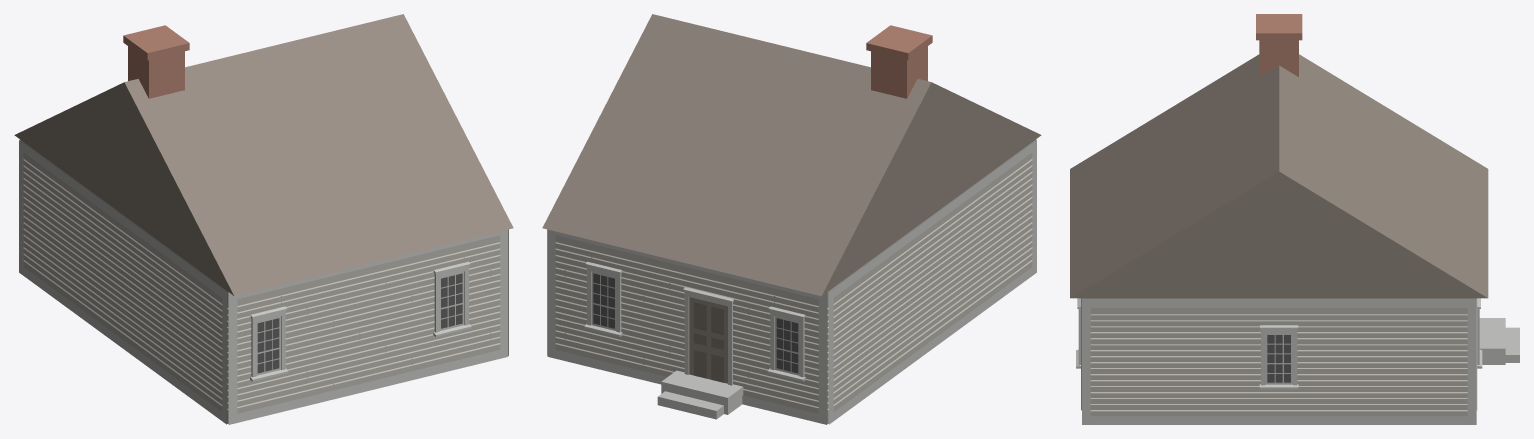
File: recon_1835_blk_randolph_franklin_d4_03__inferred_1835.glb
3 renders of one model, left to right at view 1: azimuth 30°, elevation 25°; view 2: azimuth 150°, elevation 25°; view 3: azimuth 270°, elevation 25°, orthographic. The views are drawn at different scales.
Visible parts, largest first — view 1: recon_1835_blk_randolph_franklin_d4_03__inferred_1835; view 2: recon_1835_blk_randolph_franklin_d4_03__inferred_1835; view 3: recon_1835_blk_randolph_franklin_d4_03__inferred_1835.
Part boxes in pixels (box(x1,y1,x2,y2)): recon_1835_blk_randolph_franklin_d4_03__inferred_1835: box(14, 14, 513, 424); recon_1835_blk_randolph_franklin_d4_03__inferred_1835: box(542, 14, 1041, 424); recon_1835_blk_randolph_franklin_d4_03__inferred_1835: box(1070, 14, 1519, 424).
Bounding box in the file's own units: 6.66 × 6.7 × 9.56.
